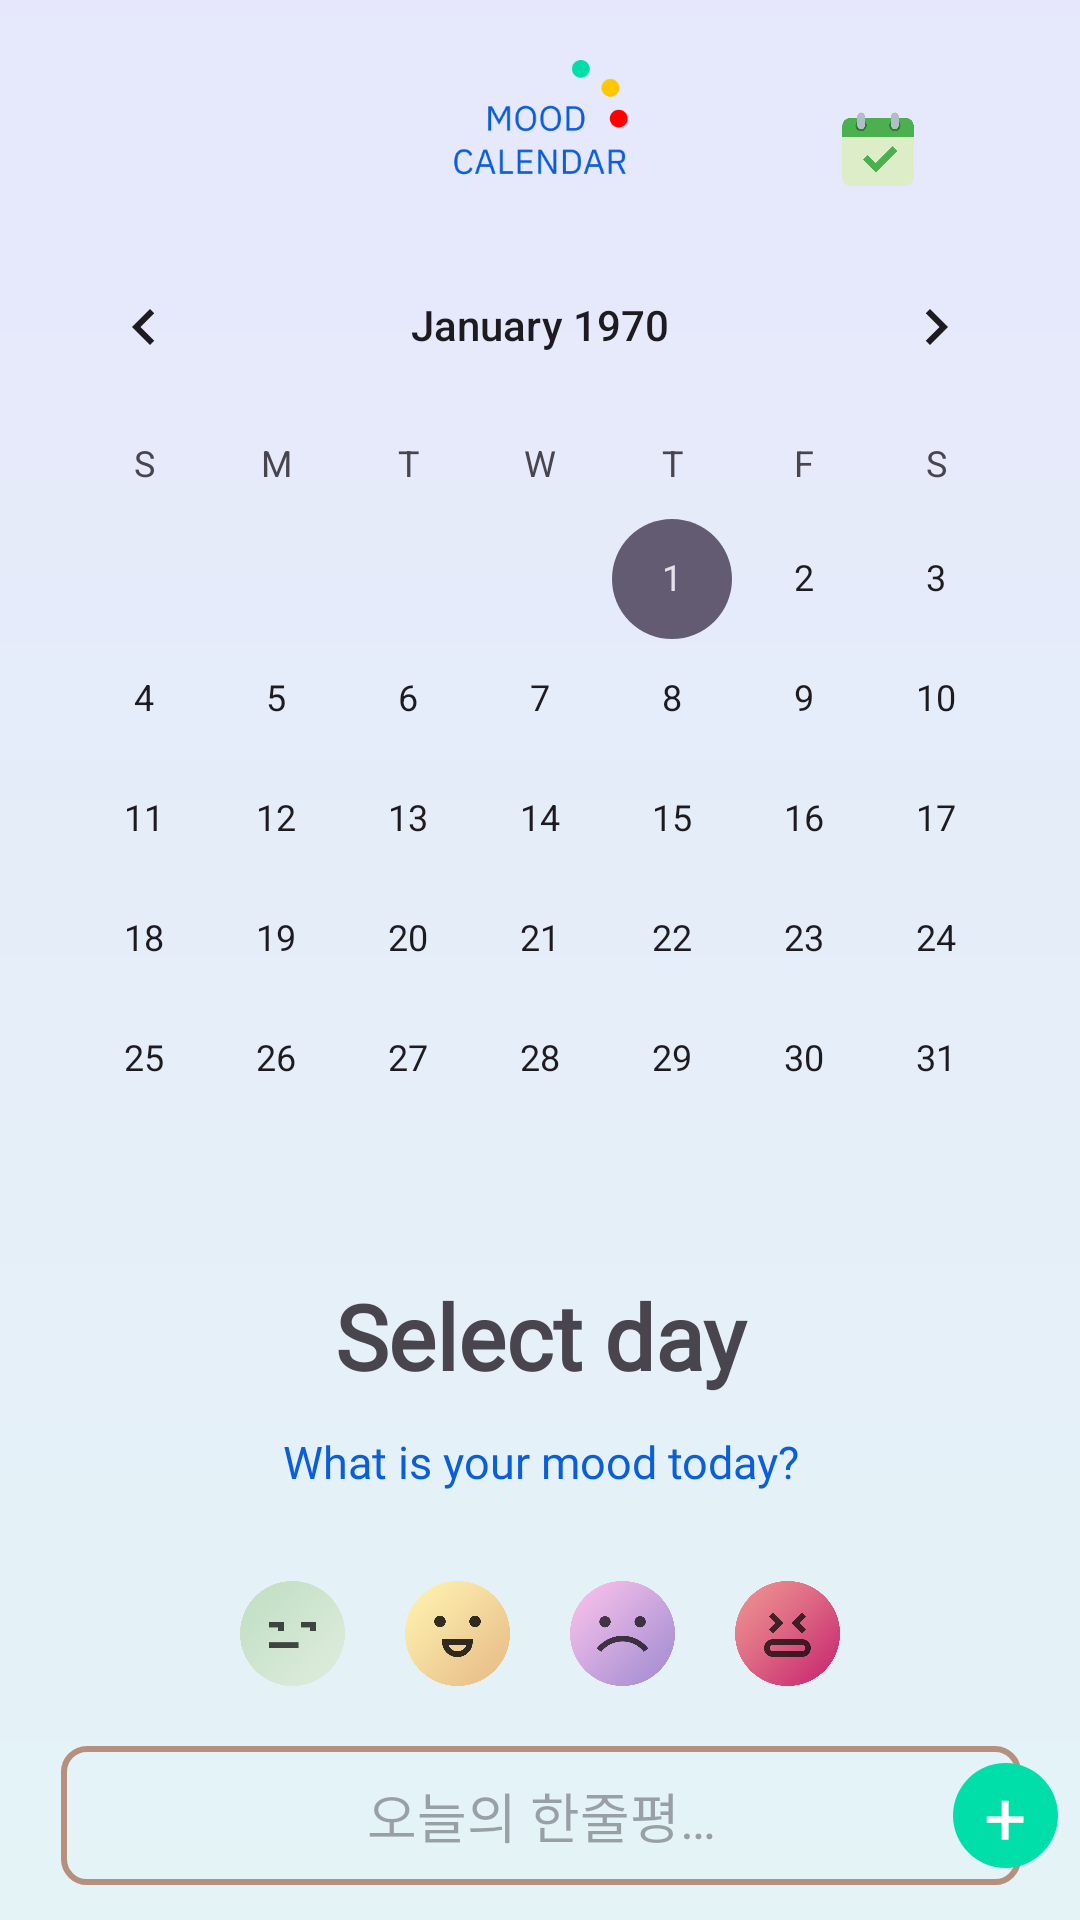

Icons on this 1080 x 1920 Android screen, each with its box as (x1, y1, x2, y2):
bored select: (240, 1581, 345, 1686)
happy select: (405, 1581, 510, 1686)
sad select: (570, 1581, 675, 1686)
stressed select: (735, 1581, 840, 1686)
today: (842, 113, 914, 186)
